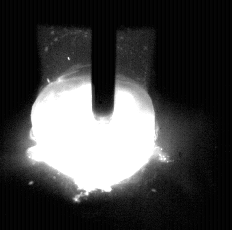arame: (92, 0, 117, 124)
poca: (29, 0, 158, 230)
